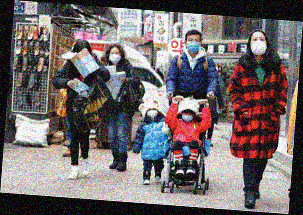with_mask: (250, 35, 267, 56), (185, 36, 201, 53), (108, 50, 122, 63), (146, 106, 159, 118), (181, 111, 193, 122)
